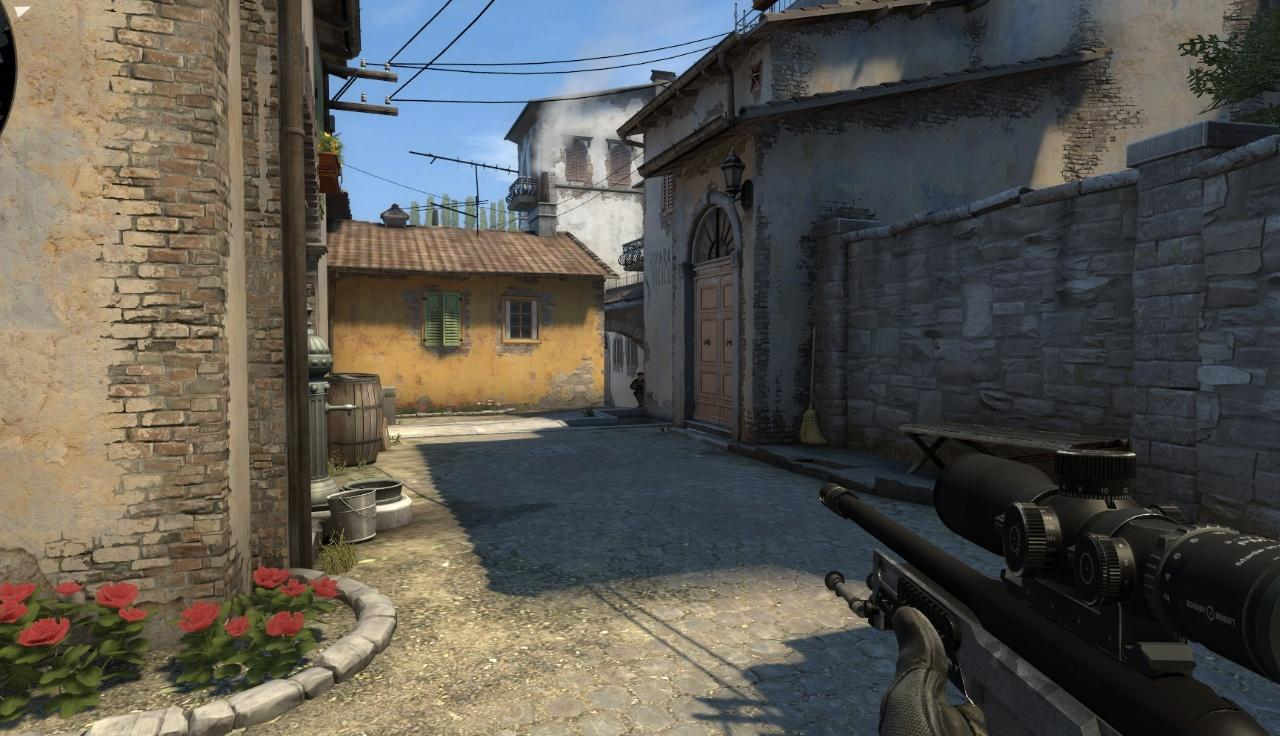sniper: (821, 443, 1280, 735)
tt: (630, 372, 644, 407)
tthead: (637, 372, 643, 381)
